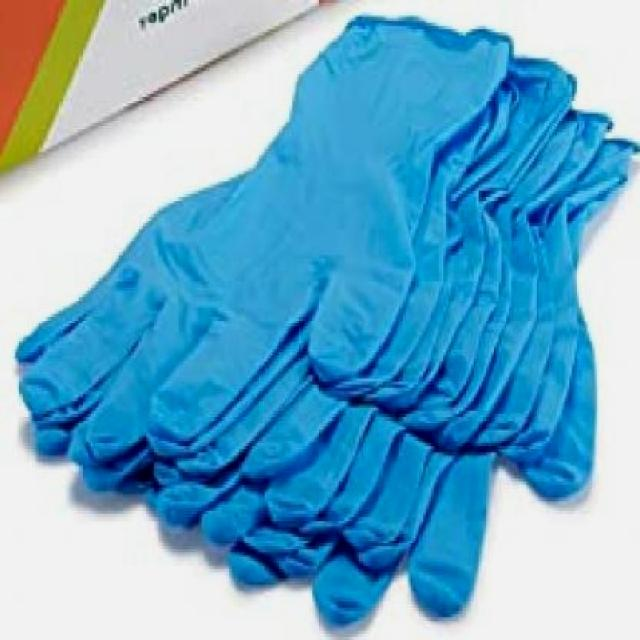glove: (16, 22, 633, 624)
